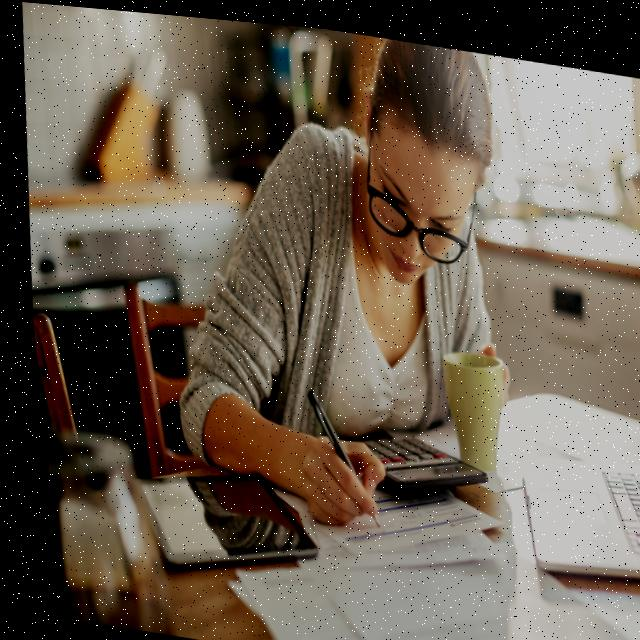studying-person: (124, 9, 548, 608)
